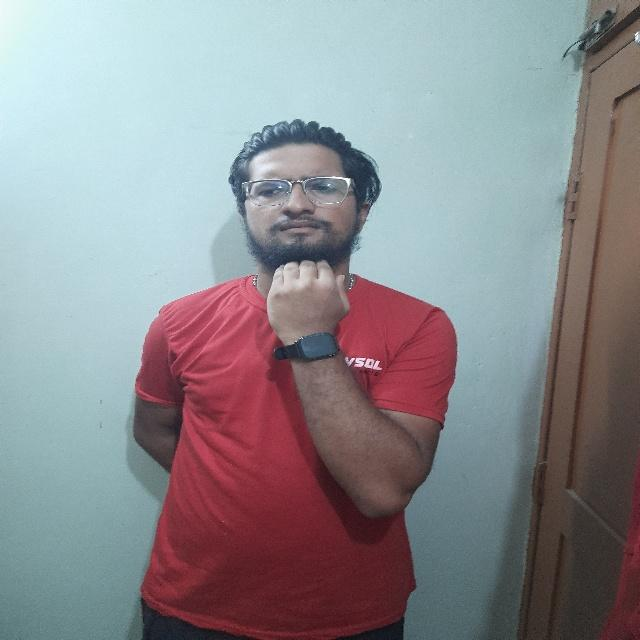Chin Flick: (229, 123, 372, 353)
